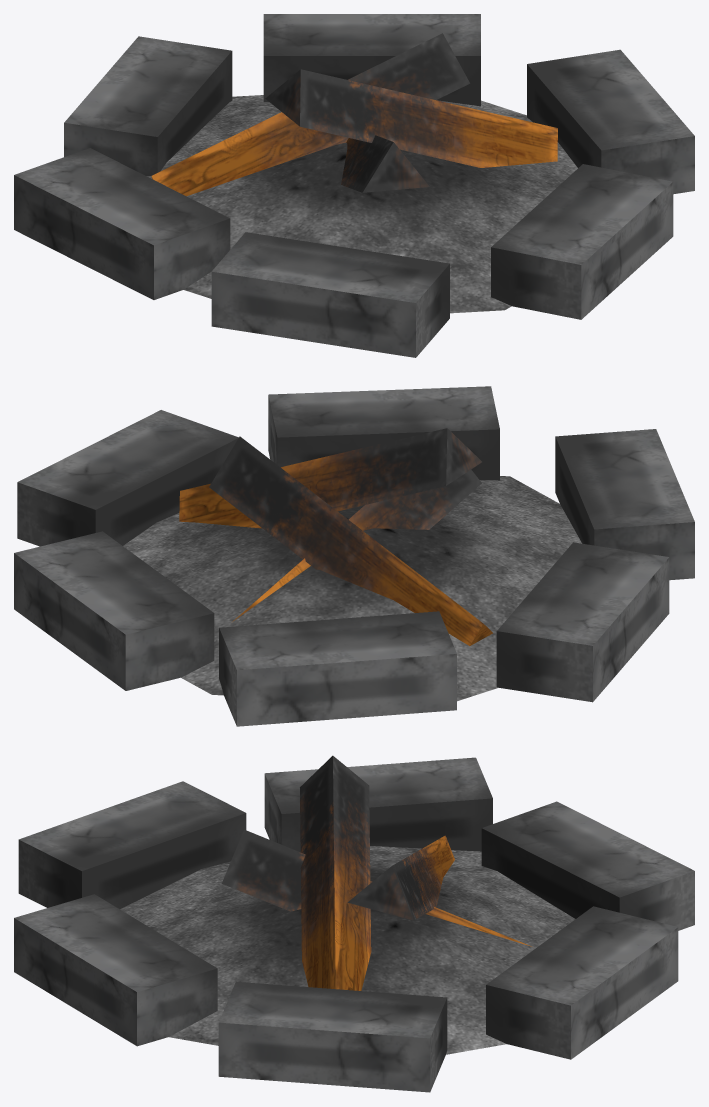
The model's file is Bonfire.FBX.
The picture shows the model from 3 angles, top to bottom: view 1: azimuth 30°, elevation 25°; view 2: azimuth 150°, elevation 25°; view 3: azimuth 270°, elevation 25°; orthographic projection. The views are drawn at different scales.
Visible parts, largest first — view 1: Bonfire; view 2: Bonfire; view 3: Bonfire.
Part boxes in pixels (x1,y1,x2,y2): Bonfire: (14,14,694,357); Bonfire: (14,386,694,726); Bonfire: (14,755,694,1092).
Size of the model in its own units: 74.57 by 22.86 by 76.4.
